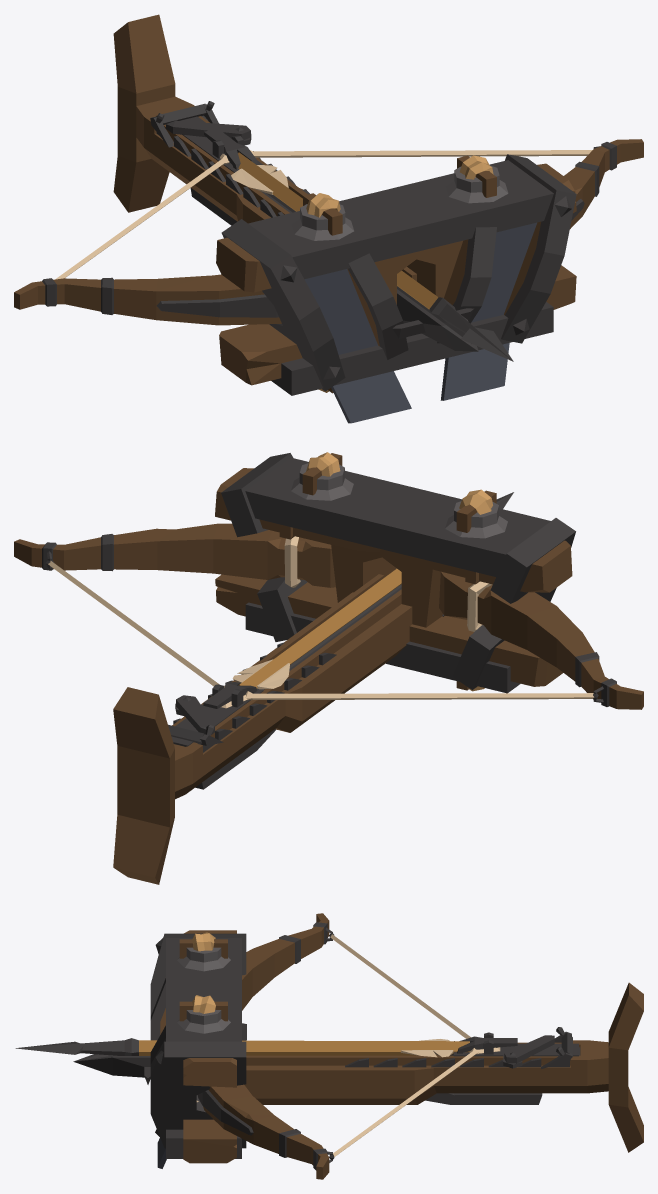
Rendered from SM_Crossbow_Dwarf.fbx.
The picture shows the model from 3 angles, top to bottom: view 1: azimuth 30°, elevation 25°; view 2: azimuth 150°, elevation 25°; view 3: azimuth 270°, elevation 25°; orthographic projection. The views are drawn at different scales.
Visible parts, largest first — view 1: Crossbow_Dwarf_Base, Crossbow_Dwarf_Arms, Crossbow_Dwarf_Armrest, Crossbow_Dwarf_Trigger, Crossbow_Dwarf_Bolt; view 2: Crossbow_Dwarf_Base, Crossbow_Dwarf_Arms, Crossbow_Dwarf_Armrest, Crossbow_Dwarf_Trigger, Crossbow_Dwarf_Bolt; view 3: Crossbow_Dwarf_Base, Crossbow_Dwarf_Arms, Crossbow_Dwarf_Bolt, Crossbow_Dwarf_Trigger, Crossbow_Dwarf_Armrest.
Boxes of the visible parts, x1,y1,x2,y2 form: Crossbow_Dwarf_Base: (136,96,576,423); Crossbow_Dwarf_Arms: (14,139,643,325); Crossbow_Dwarf_Armrest: (113,14,175,212); Crossbow_Dwarf_Trigger: (150,101,478,351); Crossbow_Dwarf_Bolt: (231,152,513,361); Crossbow_Dwarf_Base: (172,452,575,799); Crossbow_Dwarf_Arms: (14,523,643,709); Crossbow_Dwarf_Armrest: (113,687,174,884); Crossbow_Dwarf_Trigger: (168,584,401,746); Crossbow_Dwarf_Bolt: (232,492,513,689); Crossbow_Dwarf_Base: (150,930,608,1168); Crossbow_Dwarf_Arms: (196,913,500,1179); Crossbow_Dwarf_Bolt: (15,1038,469,1057); Crossbow_Dwarf_Trigger: (73,1027,580,1084); Crossbow_Dwarf_Armrest: (608,982,643,1152).
Size of the model in its own units: 115 by 120 by 38.34.
